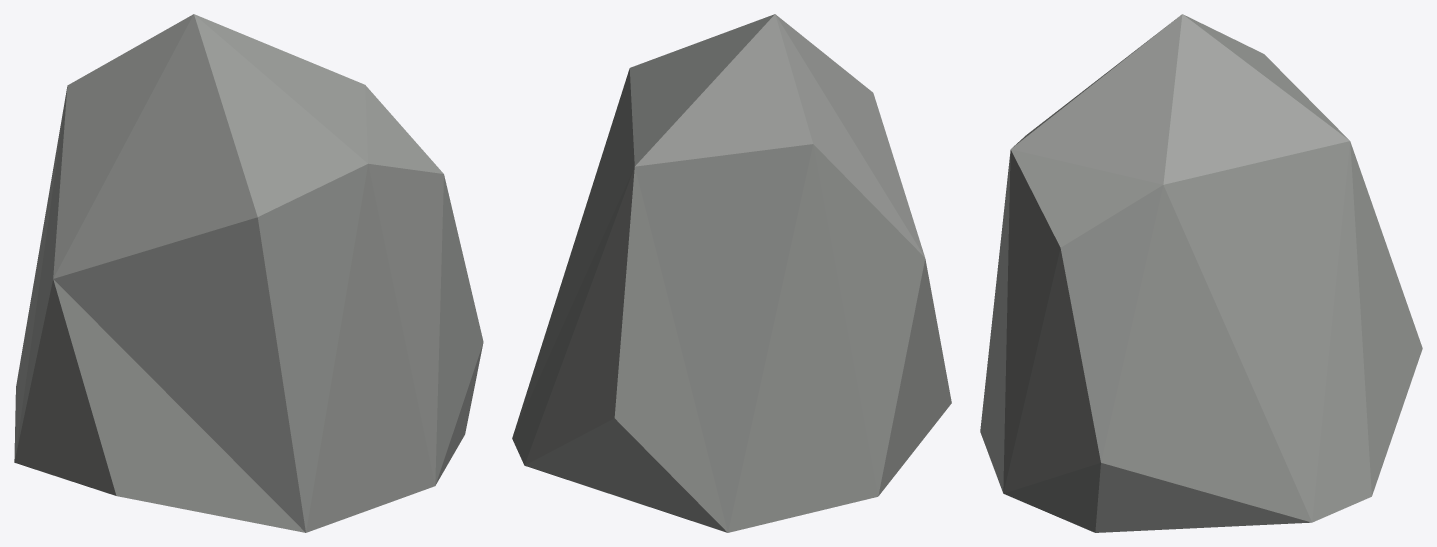
The model's file is Rock.fbx.
3 views of the same model, side by side, from view 1: azimuth 30°, elevation 25°; view 2: azimuth 150°, elevation 25°; view 3: azimuth 270°, elevation 25° (orthographic). The views are drawn at different scales.
Visible parts, largest first — view 1: rock; view 2: rock; view 3: rock.
Boxes of the visible parts, bbox=[...] form: rock: bbox=[14, 14, 483, 532]; rock: bbox=[512, 14, 951, 532]; rock: bbox=[980, 14, 1422, 532].
Size of the model in its own units: 170 by 182 by 175.
